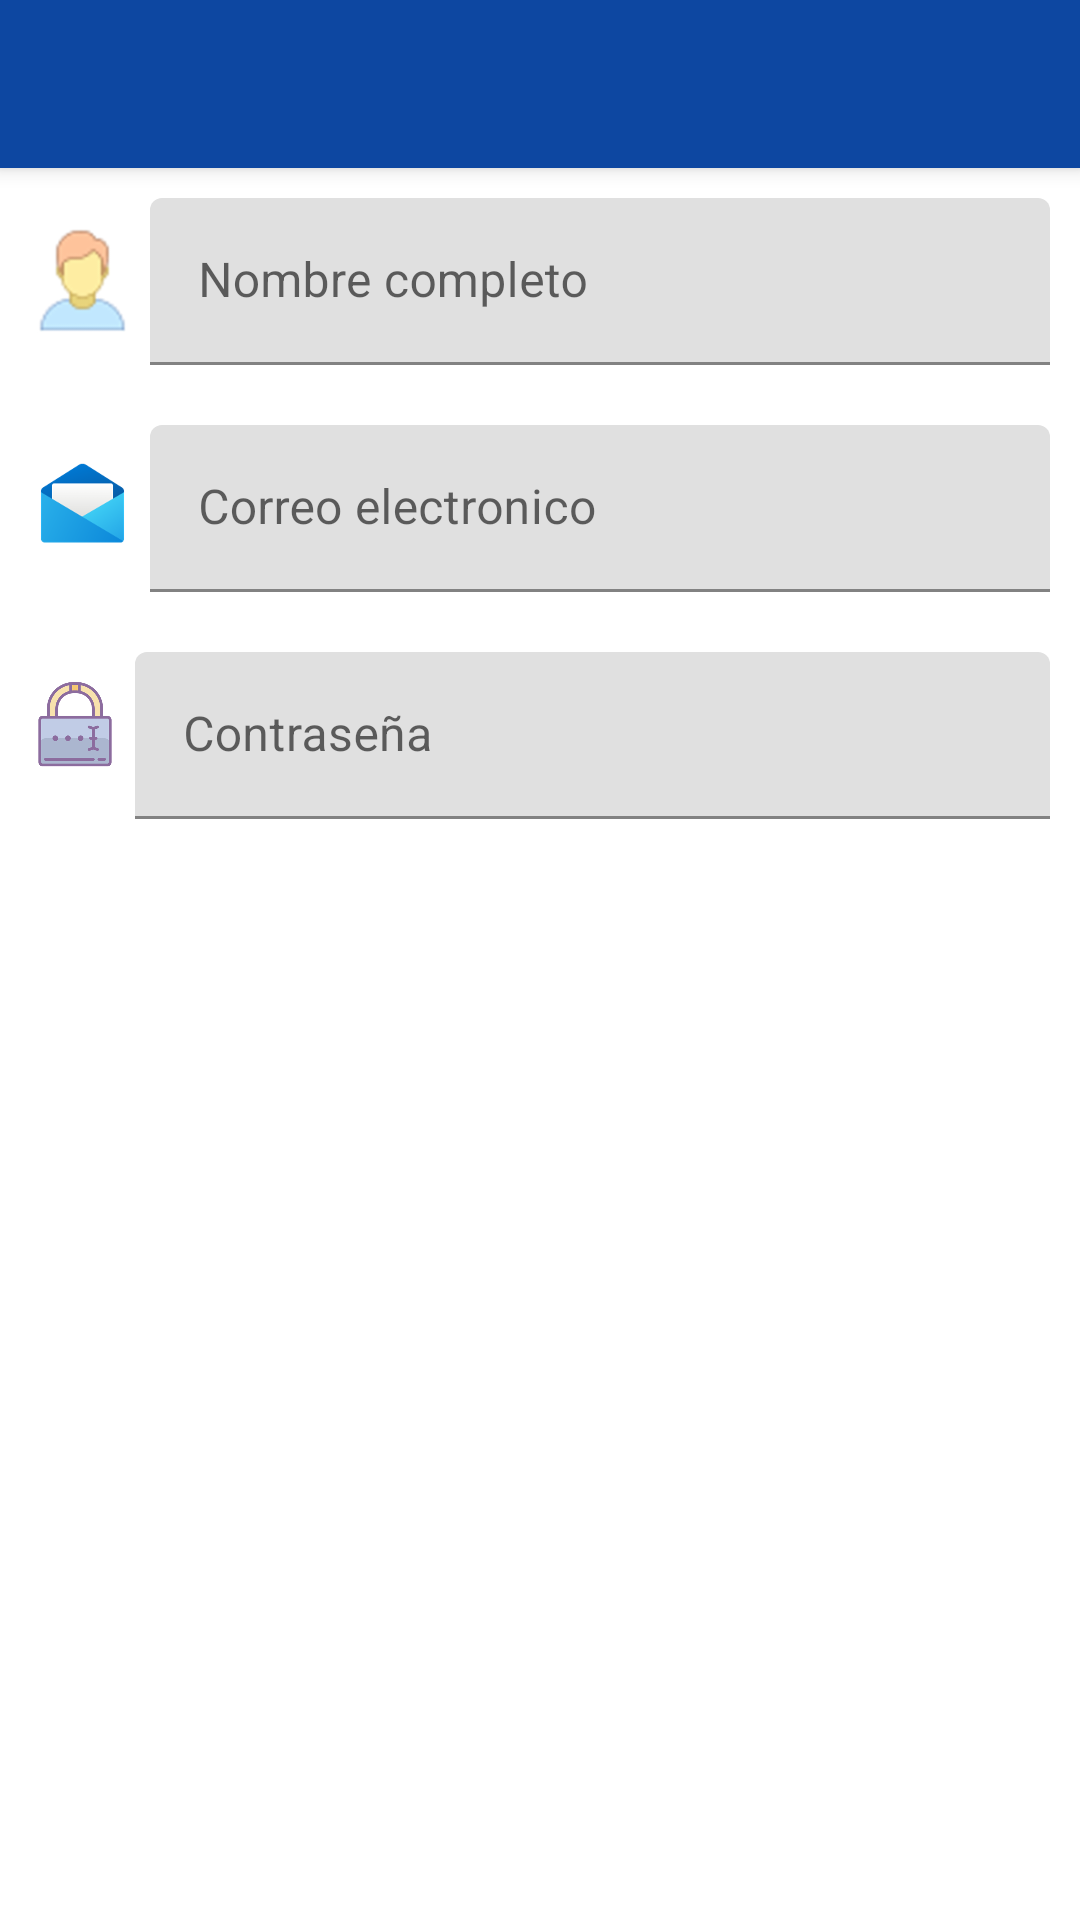

Where icons sit on this 1080px×1920px app screen, as (x1, y1, x2, y2):
email: (41, 463, 124, 543)
password: (38, 682, 112, 767)
user: (40, 230, 125, 331)
